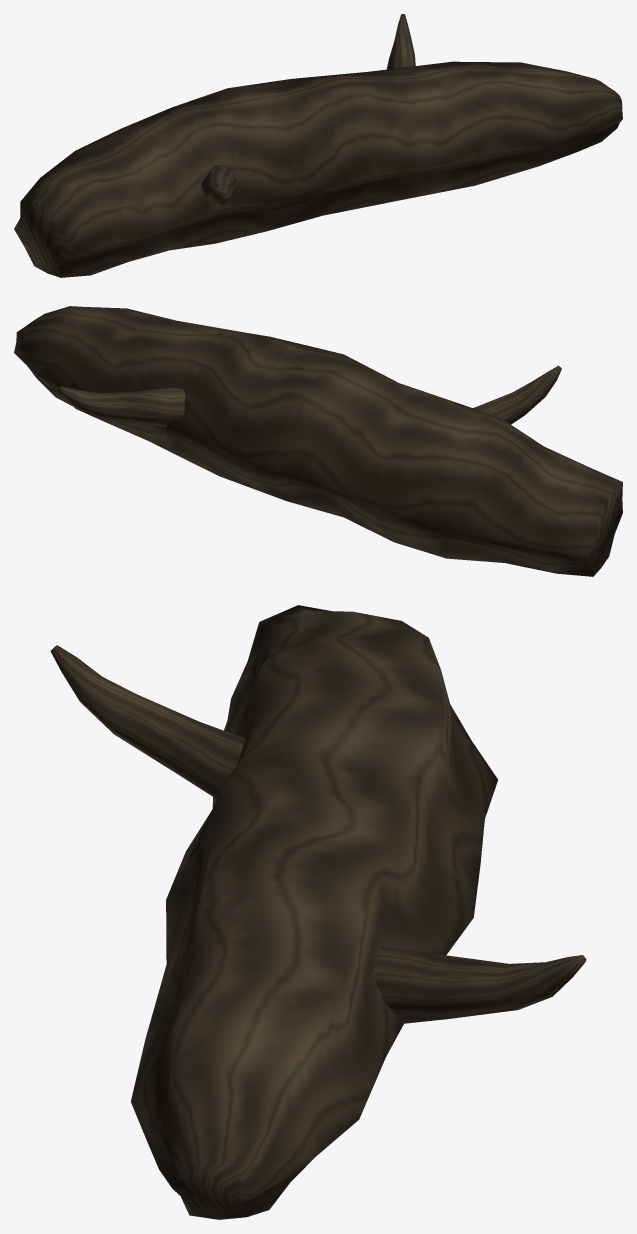
The model's file is fallen_wood.glb.
3 renders of one model, top to bottom at view 1: azimuth 30°, elevation 25°; view 2: azimuth 150°, elevation 25°; view 3: azimuth 270°, elevation 25°, orthographic. The views are drawn at different scales.
Visible parts, largest first — view 1: fallen_woodMesh; view 2: fallen_woodMesh; view 3: fallen_woodMesh.
Boxes of the visible parts, <box> form: fallen_woodMesh: <box>14,14,622,277</box>; fallen_woodMesh: <box>14,306,622,576</box>; fallen_woodMesh: <box>50,605,586,1219</box>.
Size of the model in its own units: 4.4 by 0.9494 by 1.82.
Materials: 1 (1 with a texture image).
